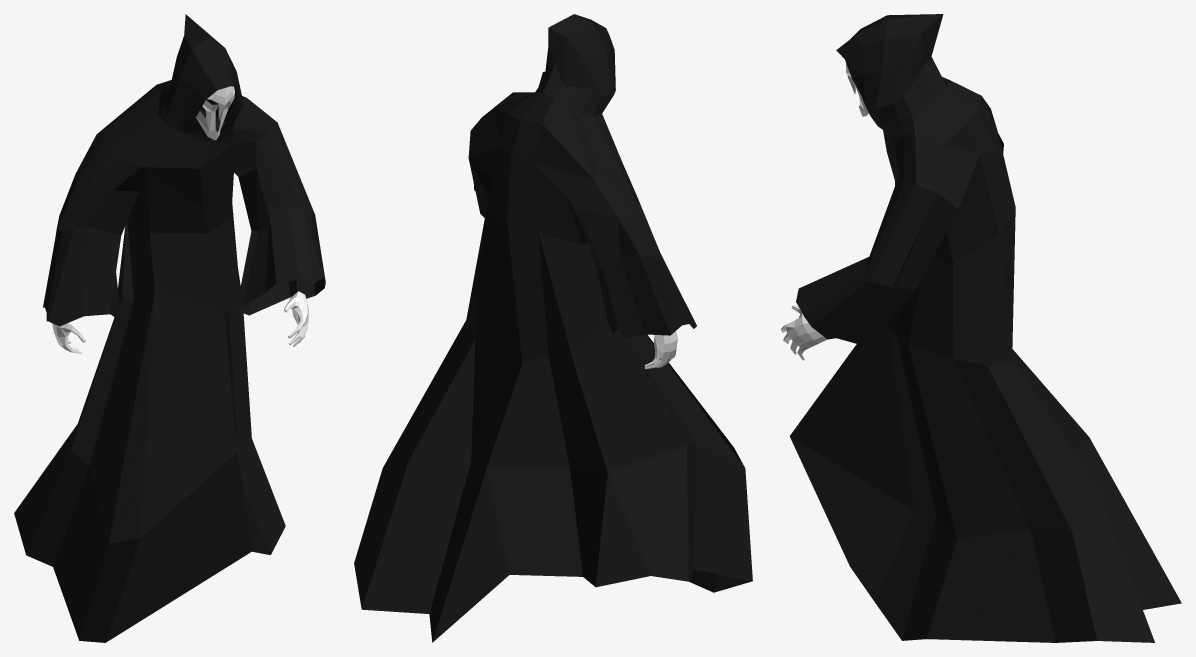
The model's file is ReaperWalk(21).obj.
3 renders of one model, left to right at view 1: azimuth 30°, elevation 25°; view 2: azimuth 150°, elevation 25°; view 3: azimuth 270°, elevation 25°, orthographic. The views are drawn at different scales.
Visible parts, largest first — view 1: Plane003; view 2: Plane003; view 3: Plane003.
Boxes of the visible parts, left/top/right/bottom form: Plane003: left=14, top=14, right=325, bottom=642; Plane003: left=354, top=14, right=752, bottom=642; Plane003: left=781, top=14, right=1181, bottom=642.
Bounding box in the file's own units: 114 × 222 × 130.
